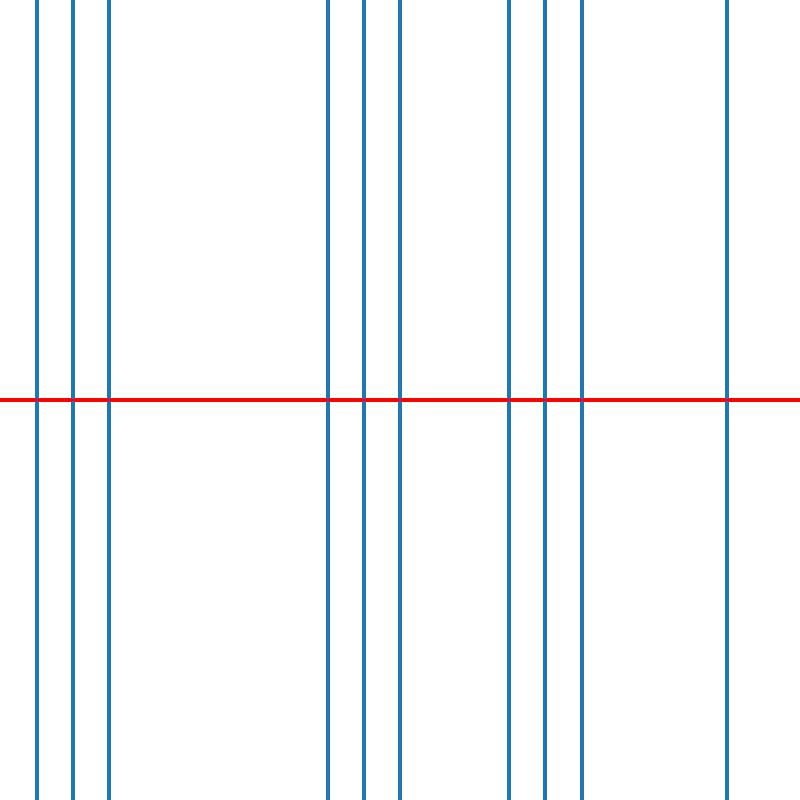root: (32, 396, 40, 404), (541, 396, 549, 404), (360, 396, 367, 404), (723, 396, 730, 404), (396, 396, 403, 404), (69, 396, 76, 404), (505, 396, 512, 404), (105, 396, 112, 404), (578, 396, 585, 404), (323, 396, 330, 404)
